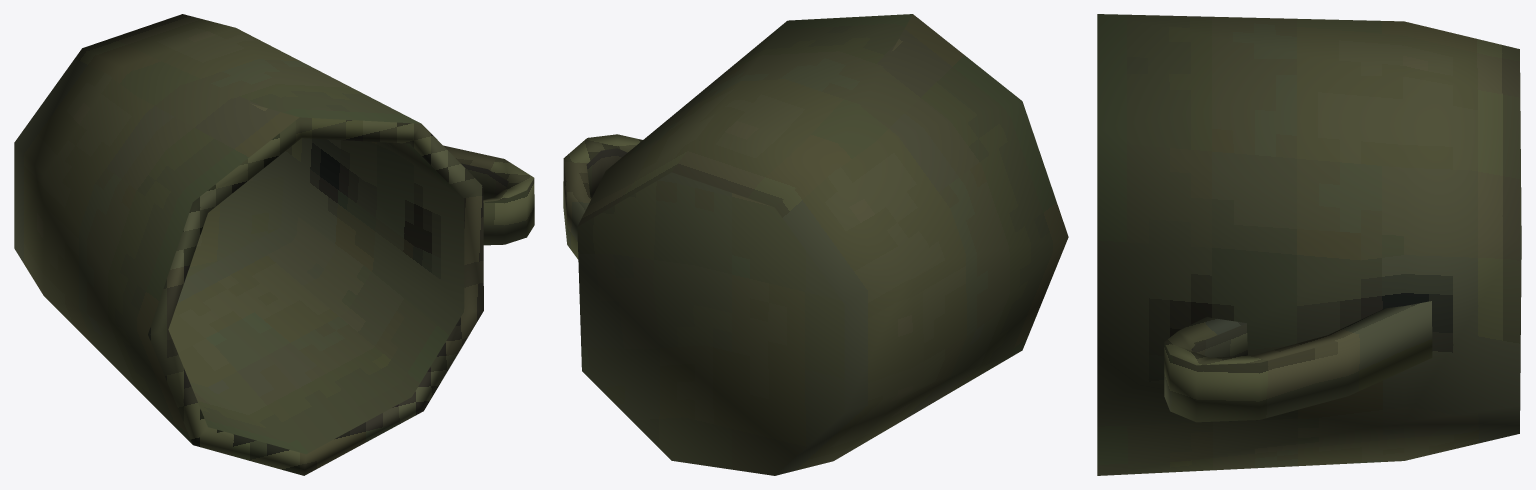
File: p_pent_coffeemug_LOD1.obj
3 renders of one model, left to right at view 1: azimuth 30°, elevation 25°; view 2: azimuth 150°, elevation 25°; view 3: azimuth 270°, elevation 25°, orthographic. The views are drawn at different scales.
Visible parts, largest first — view 1: mtl_p_pent_coffeemug; view 2: mtl_p_pent_coffeemug; view 3: mtl_p_pent_coffeemug.
Part boxes in pixels (x1,y1,x2,y2): mtl_p_pent_coffeemug: (14,14,534,475); mtl_p_pent_coffeemug: (563,14,1068,475); mtl_p_pent_coffeemug: (1097,14,1521,475).
Bounding box in the file's own units: 12.56 × 10.09 × 8.98.
